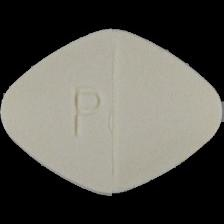49884-922: (0, 0, 224, 224)
